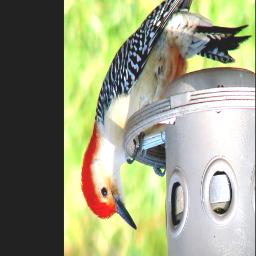Woodpecker: (81, 0, 251, 230)
